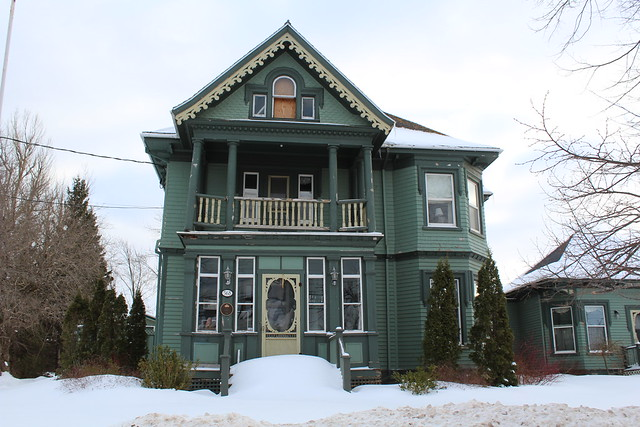low: (510, 230, 640, 378)
medium: (136, 16, 503, 391)
